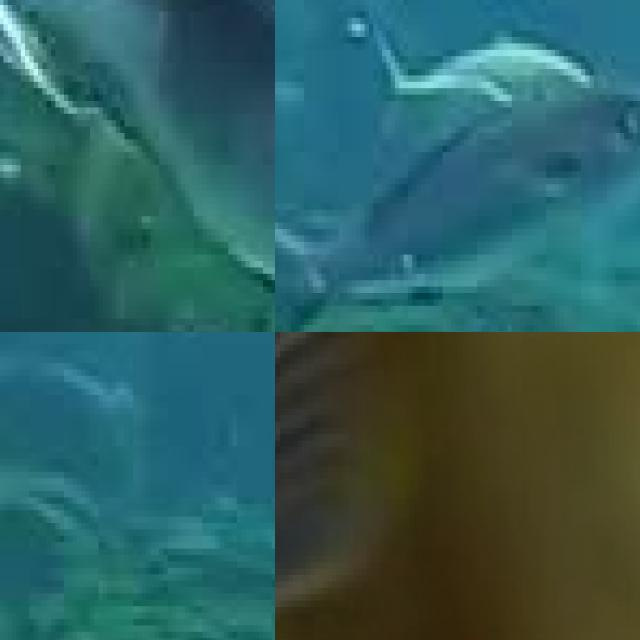fish: (0, 0, 275, 332), (275, 332, 453, 640)
